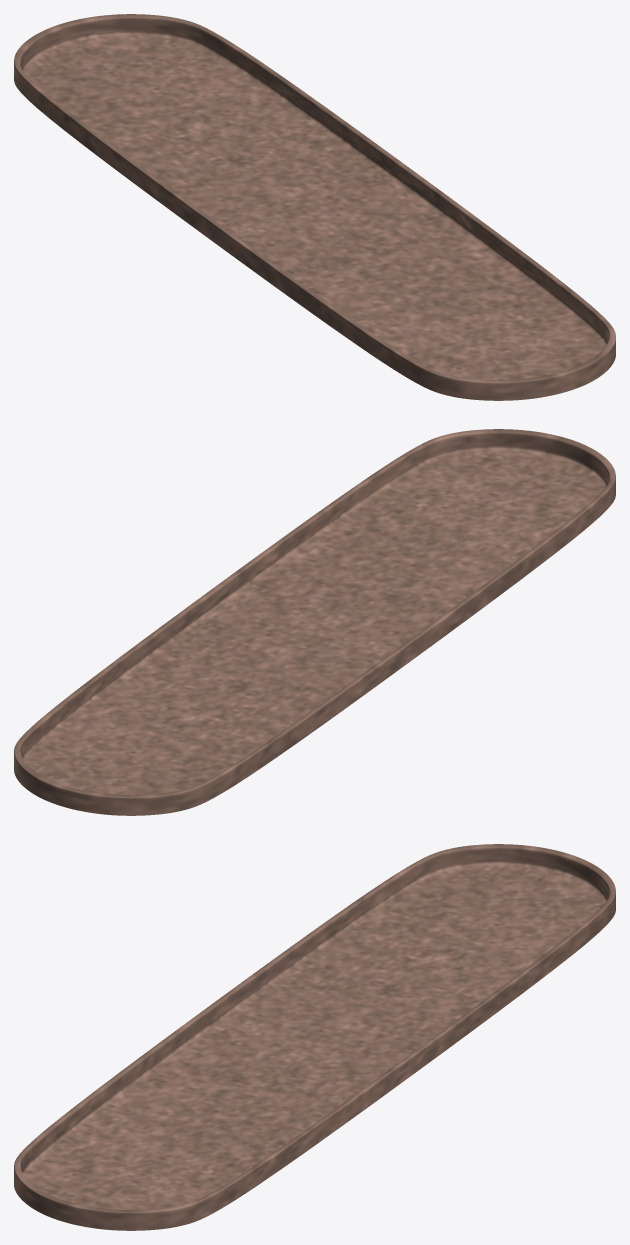
The model's file is vaso.fbx.
3 views of the same model, one above another, from view 1: azimuth 30°, elevation 25°; view 2: azimuth 150°, elevation 25°; view 3: azimuth 330°, elevation 25° (orthographic).
Visible parts, largest first — view 1: vaso; view 2: vaso; view 3: vaso.
Boxes of the visible parts, left/top/right/bottom form: vaso: left=14, top=14, right=615, bottom=400; vaso: left=14, top=429, right=615, bottom=815; vaso: left=14, top=844, right=615, bottom=1230.
Size of the model in its own units: 881 by 74.79 by 3615.
